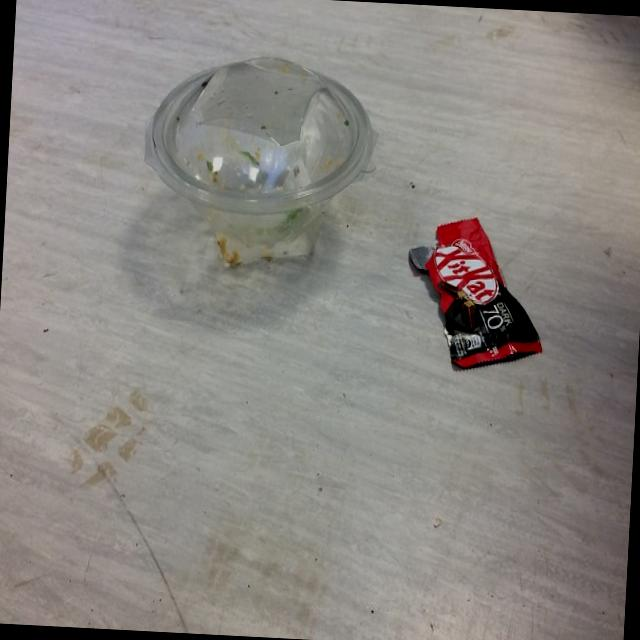Trash: (138, 43, 384, 281), (402, 211, 551, 374)
